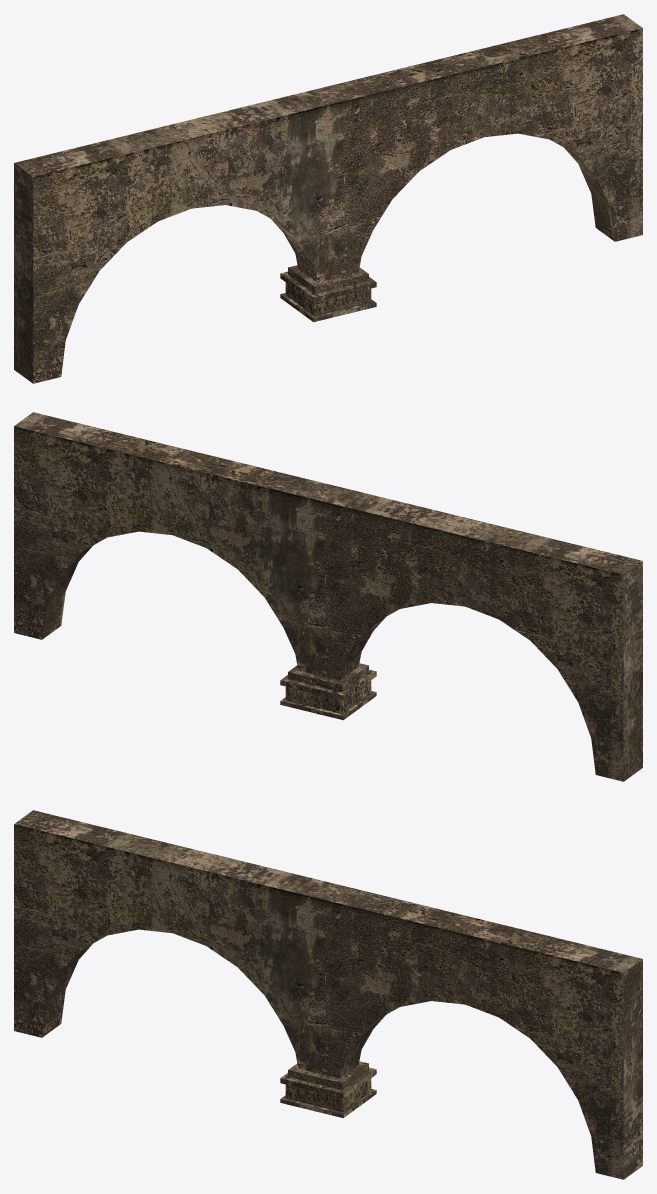
The model's file is materials_5_arch_25.fbx.
3 views of the same model, one above another, from view 1: azimuth 30°, elevation 25°; view 2: azimuth 150°, elevation 25°; view 3: azimuth 330°, elevation 25° (orthographic).
Parts seen in each view (by area): view 1: materials_5_arch_25; view 2: materials_5_arch_25; view 3: materials_5_arch_25.
Part boxes in pixels (<box>): materials_5_arch_25: <box>14,14,642,383</box>; materials_5_arch_25: <box>14,412,642,781</box>; materials_5_arch_25: <box>14,810,642,1179</box>.
Bounding box in the file's own units: 467 × 151 × 44.12.
